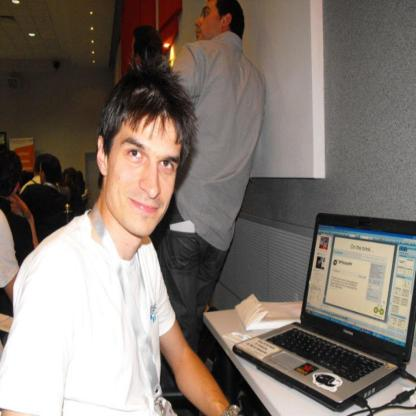board: (233, 211, 416, 410)
